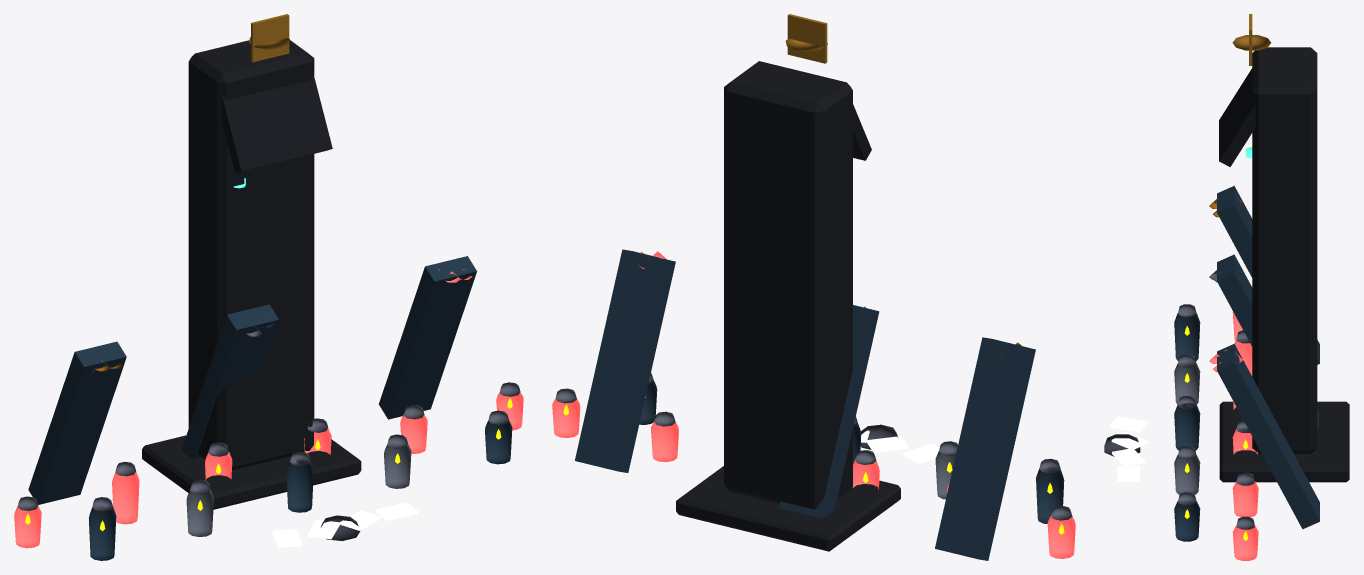
The model's file is room-detail-katedralny-props.glb.
3 views of the same model, side by side, from view 1: azimuth 30°, elevation 25°; view 2: azimuth 150°, elevation 25°; view 3: azimuth 270°, elevation 25° (orthographic). The views are drawn at different scales.
Visible parts, largest first — view 1: rd-kat-terminal, rd-kat-candles; view 2: rd-kat-terminal, rd-kat-candles; view 3: rd-kat-terminal, rd-kat-candles.
Part boxes in pixels (box(x1,y1,x2,y2)): rd-kat-terminal: box(142, 14, 361, 509); rd-kat-candles: box(14, 256, 523, 560); rd-kat-terminal: box(676, 14, 900, 551); rd-kat-candles: box(552, 249, 1075, 560); rd-kat-terminal: box(1219, 14, 1349, 482); rd-kat-candles: box(1104, 185, 1319, 560).
Bounding box in the file's own units: 1.66 × 1.45 × 0.7554.
Materials: 1 (1 with a texture image).
